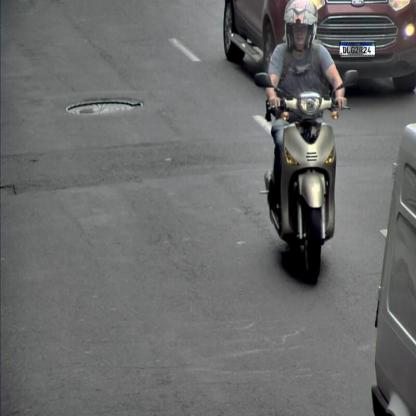PlacaM: (339, 42, 375, 56)
